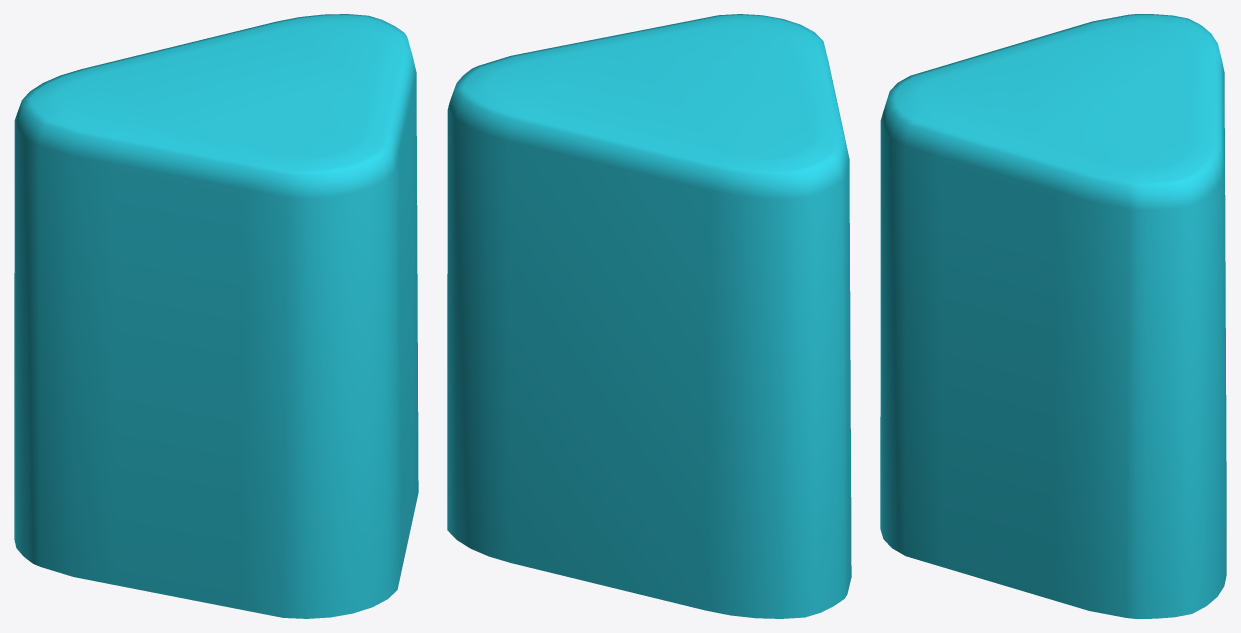
File: head.glb
The picture shows the model from 3 angles, left to right: view 1: azimuth 30°, elevation 25°; view 2: azimuth 150°, elevation 25°; view 3: azimuth 270°, elevation 25°; orthographic projection. The views are drawn at different scales.
Parts seen in each view (by area): view 1: head-0; view 2: head-0; view 3: head-0.
Boxes of the visible parts, bbox=[...] form: head-0: bbox=[14, 14, 418, 618]; head-0: bbox=[447, 14, 851, 618]; head-0: bbox=[880, 14, 1226, 618].
Bounding box in the file's own units: 1.1 × 1.24 × 0.8952.
